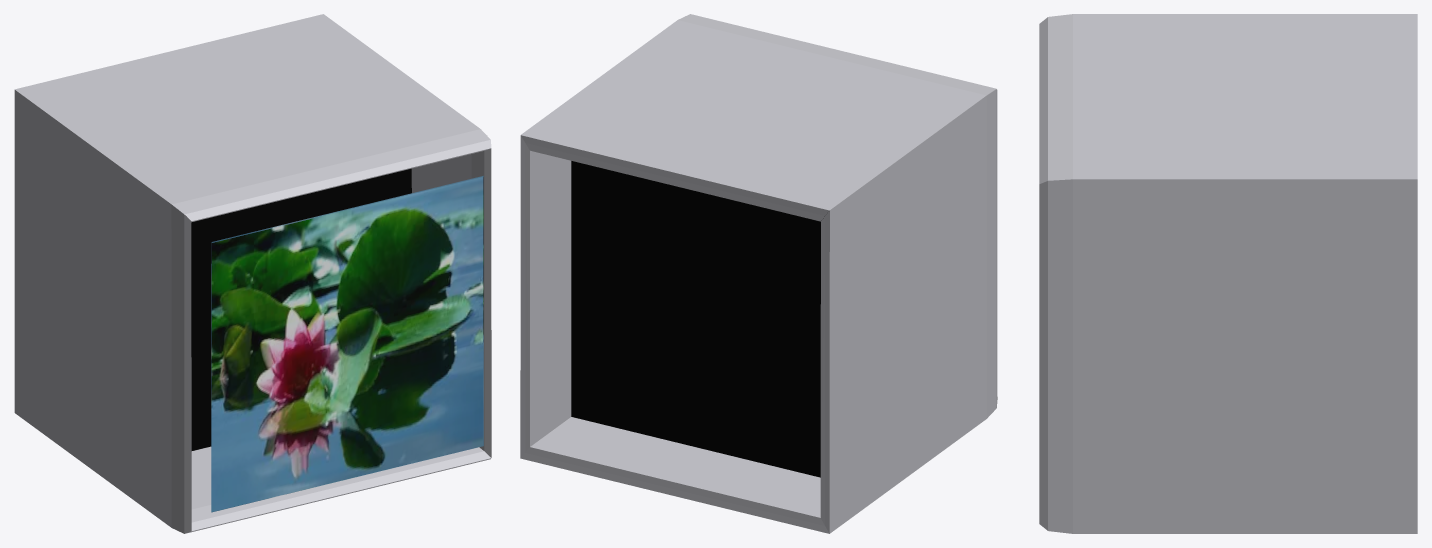
The model's file is sh-contrib-water-lily-frame.glb.
3 renders of one model, left to right at view 1: azimuth 30°, elevation 25°; view 2: azimuth 150°, elevation 25°; view 3: azimuth 270°, elevation 25°, orthographic. The views are drawn at different scales.
Visible parts, largest first — view 1: MetalFrame_Cylinder_Aluminium.014, Photo_Cube_Material_WaterLily, Frame_Black_Material.018; view 2: MetalFrame_Cylinder_Aluminium.014, Frame_Black_Material.018; view 3: MetalFrame_Cylinder_Aluminium.014.
Boxes of the visible parts, x1=… form: MetalFrame_Cylinder_Aluminium.014: x1=14, y1=14, x2=491, y2=533; Photo_Cube_Material_WaterLily: x1=211, y1=176, x2=483, y2=512; Frame_Black_Material.018: x1=185, y1=168, x2=411, y2=450; MetalFrame_Cylinder_Aluminium.014: x1=520, y1=14, x2=997, y2=533; Frame_Black_Material.018: x1=571, y1=161, x2=824, y2=477; MetalFrame_Cylinder_Aluminium.014: x1=1039, y1=14, x2=1417, y2=533.
Bounding box in the file's own units: 1 × 1 × 1.
Materials: 3 (1 with a texture image).
